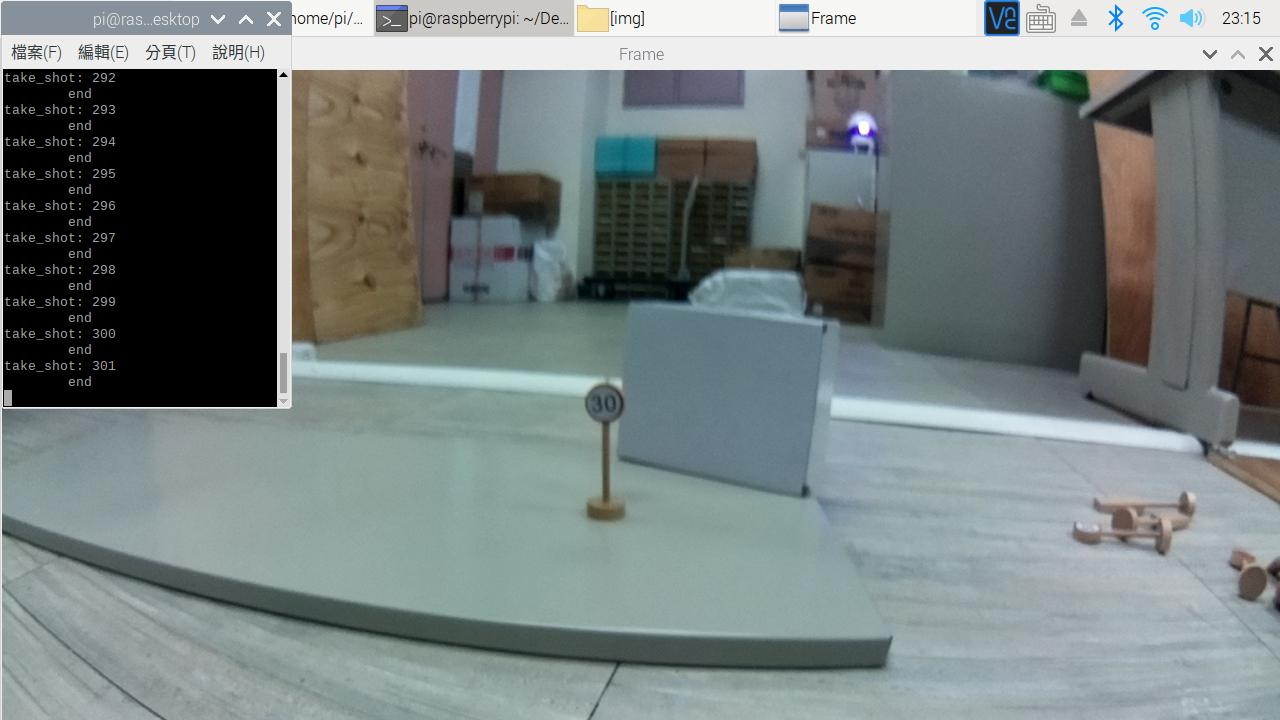Speed30: (577, 379, 634, 444)
